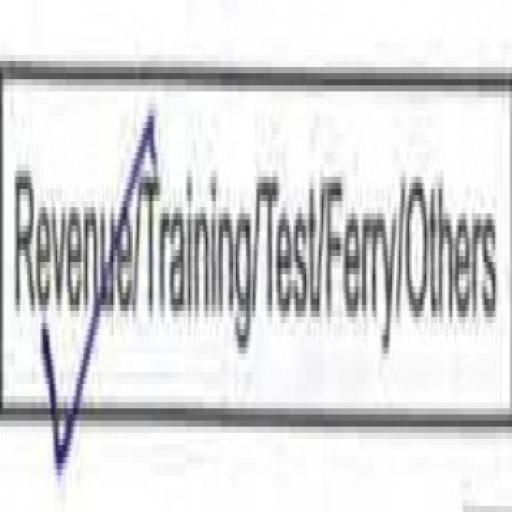check: (0, 21, 136, 512)
